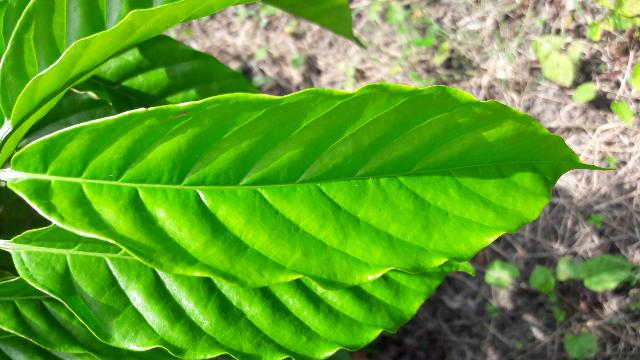healthy: (1, 78, 624, 289)
